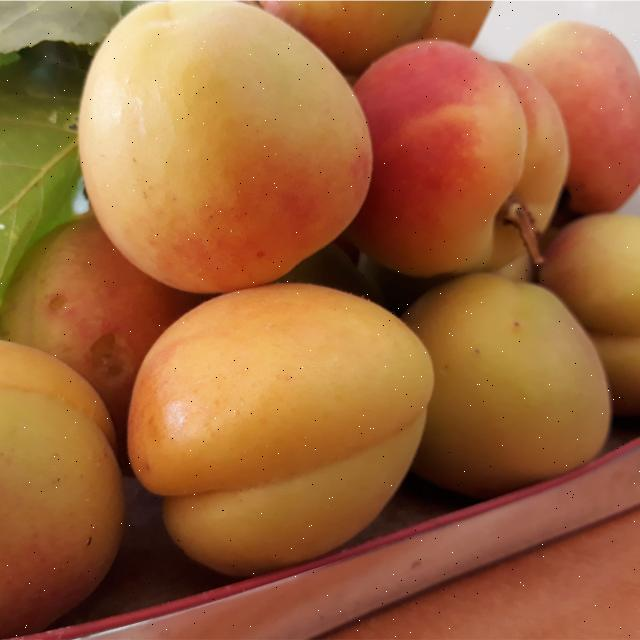kayisi: (131, 282, 435, 566), (74, 0, 365, 275), (355, 42, 551, 270), (415, 263, 612, 481), (0, 338, 116, 632), (14, 218, 183, 406), (524, 19, 640, 211), (544, 204, 640, 431), (258, 0, 496, 67)
kayisi yapragi: (0, 0, 89, 243)
